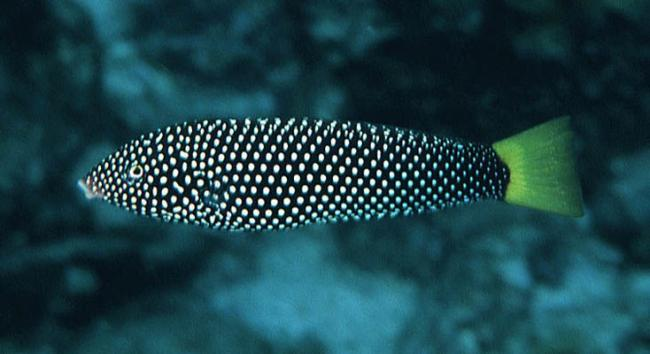fish: (79, 115, 591, 235)
